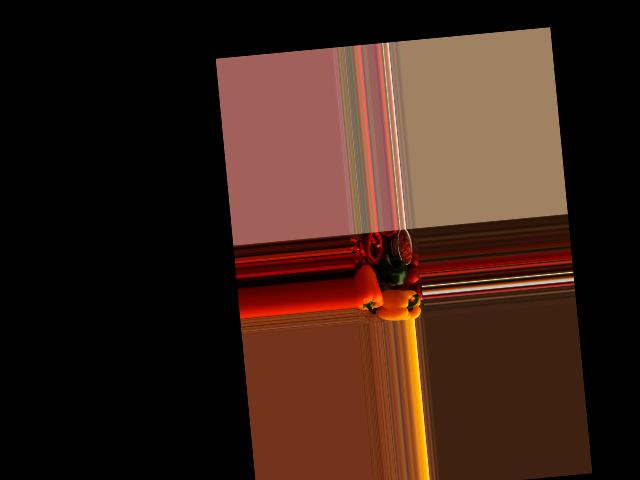bell_pepper: (383, 286, 421, 321)
